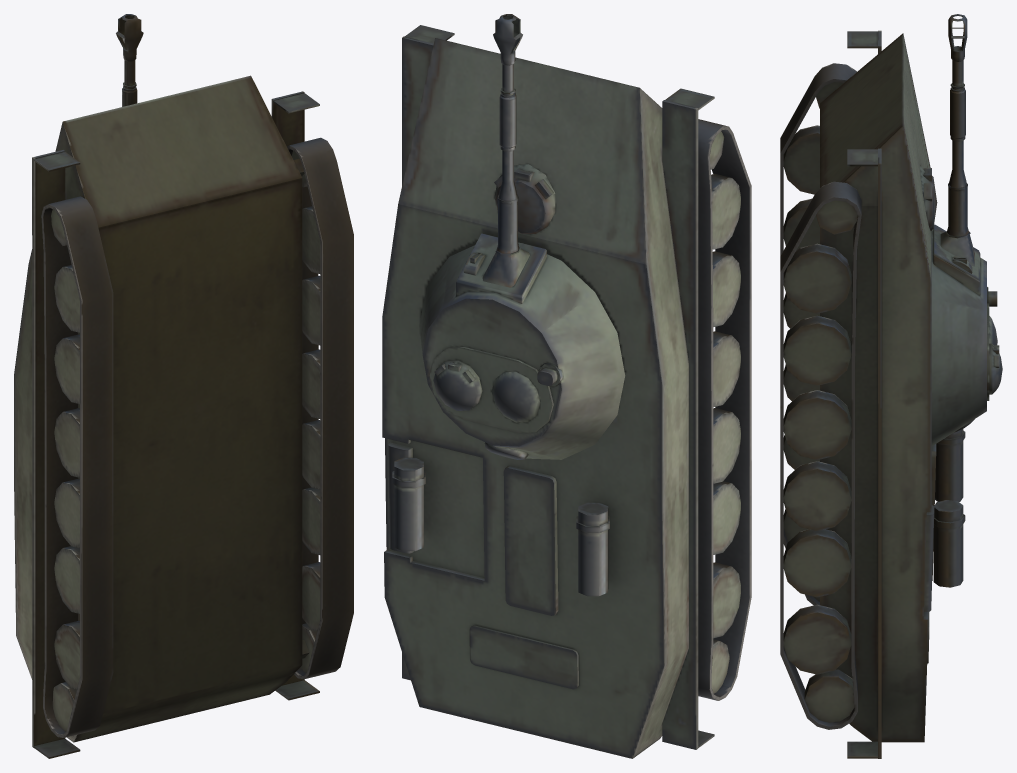
The picture shows the model from 3 angles, left to right: view 1: azimuth 30°, elevation 25°; view 2: azimuth 150°, elevation 25°; view 3: azimuth 270°, elevation 25°; orthographic projection. The views are drawn at different scales.
Parts seen in each view (by area): view 1: PT-76B Hull, PT-76B Turret; view 2: PT-76B Hull, PT-76B Turret; view 3: PT-76B Hull, PT-76B Turret.
Boxes of the visible parts, <box> form: PT-76B Hull: <box>14,75,353,758</box>; PT-76B Turret: <box>116,14,143,106</box>; PT-76B Hull: <box>382,25,751,758</box>; PT-76B Turret: <box>419,14,625,459</box>; PT-76B Hull: <box>780,30,965,758</box>; PT-76B Turret: <box>931,14,1002,446</box>.
Size of the model in its own units: 127 by 300 by 89.22.
